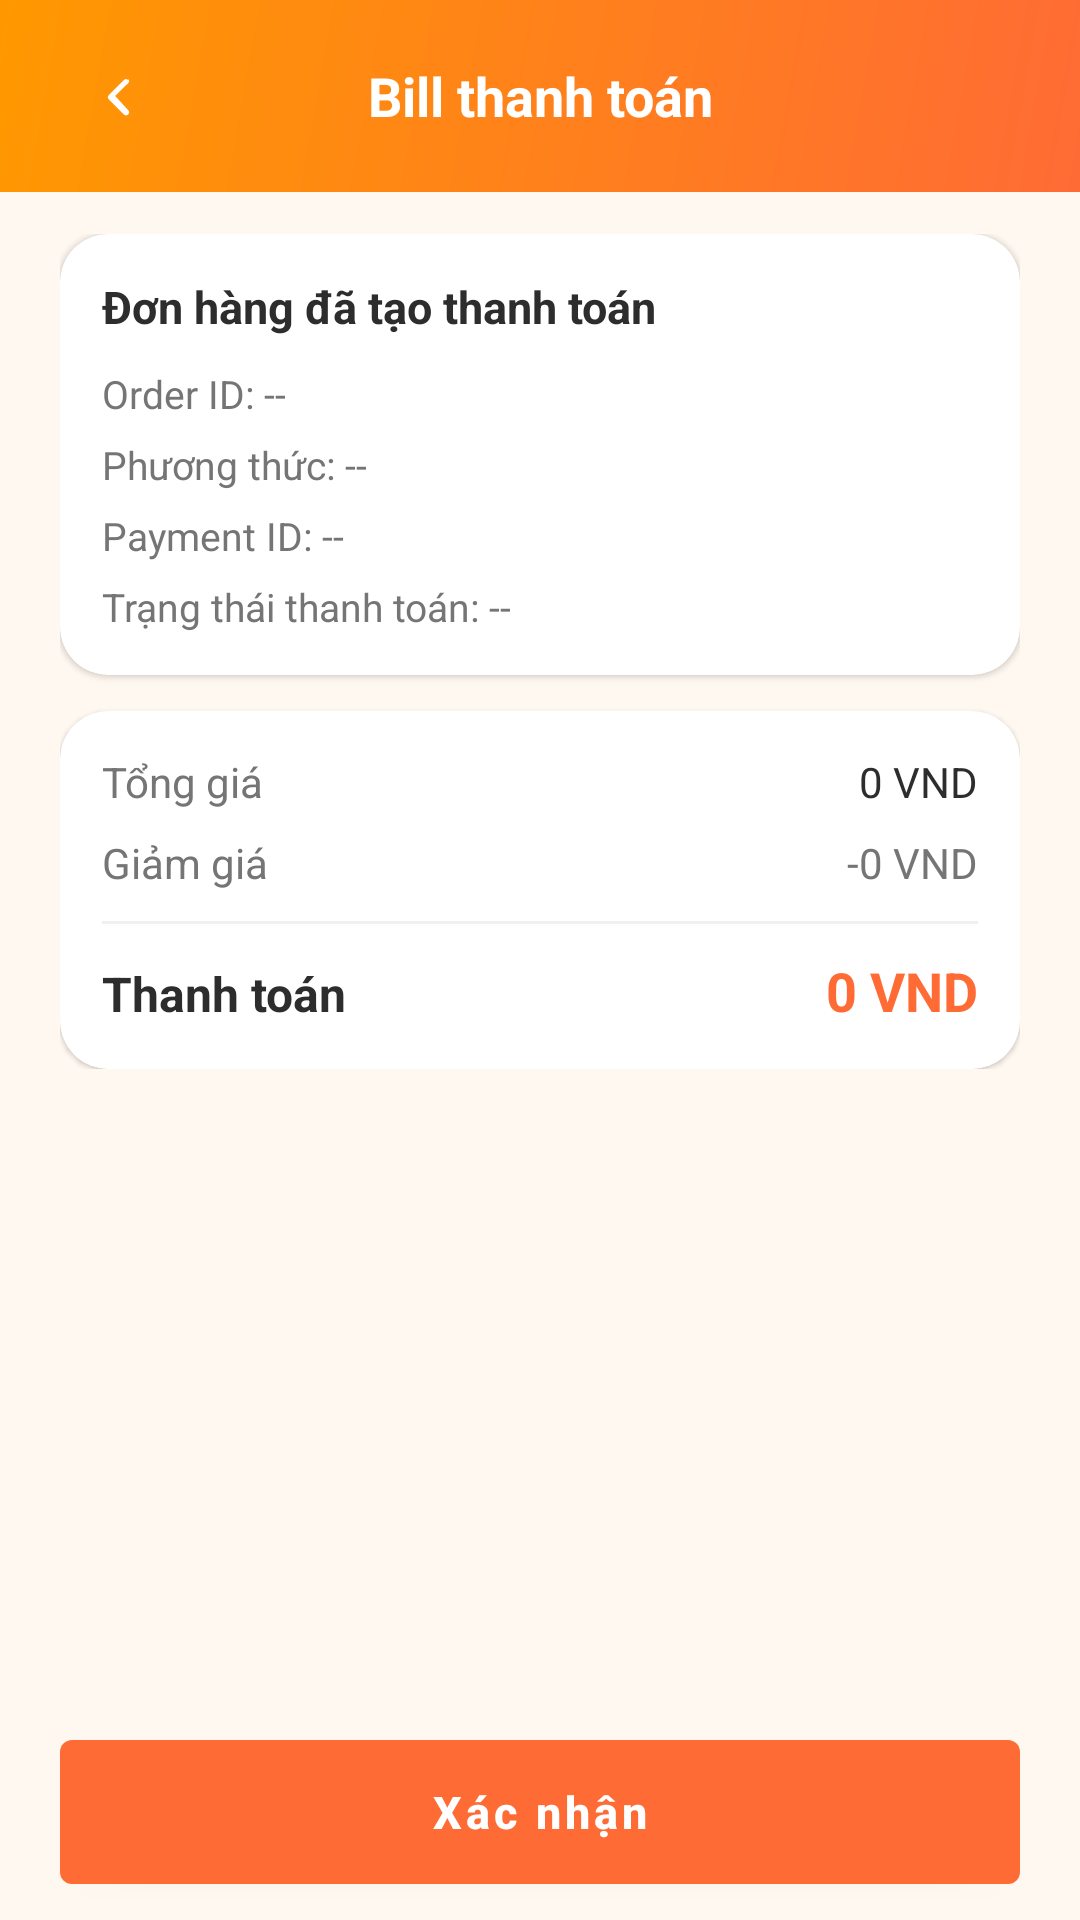

Where icons sit on this 1080x1920 app screen, as (x1, y1, x2, y2):
chevron left: (107, 79, 130, 116)
